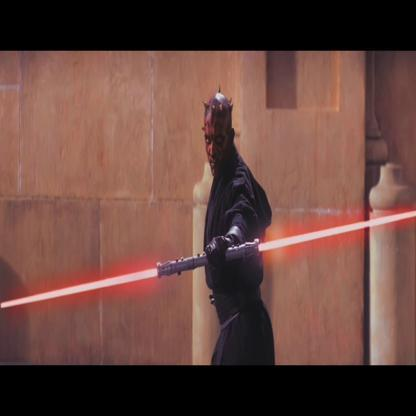person: (201, 86, 276, 364)
sith_lightsaber: (2, 209, 415, 310)
